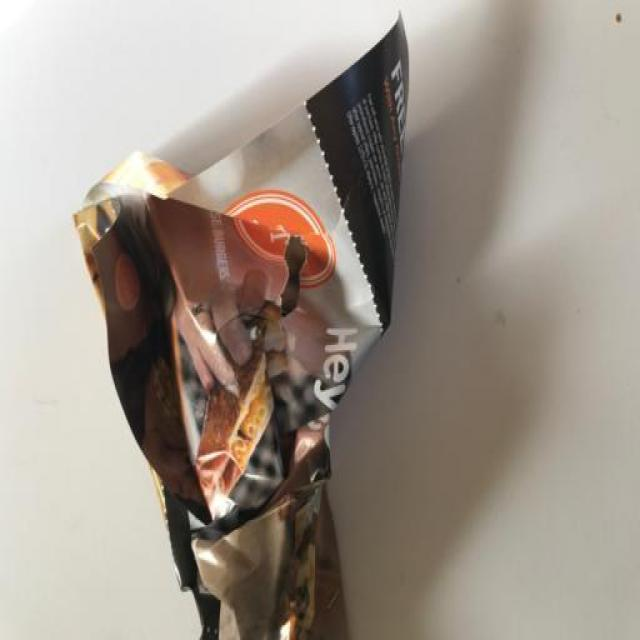paper: (71, 1, 407, 640)
